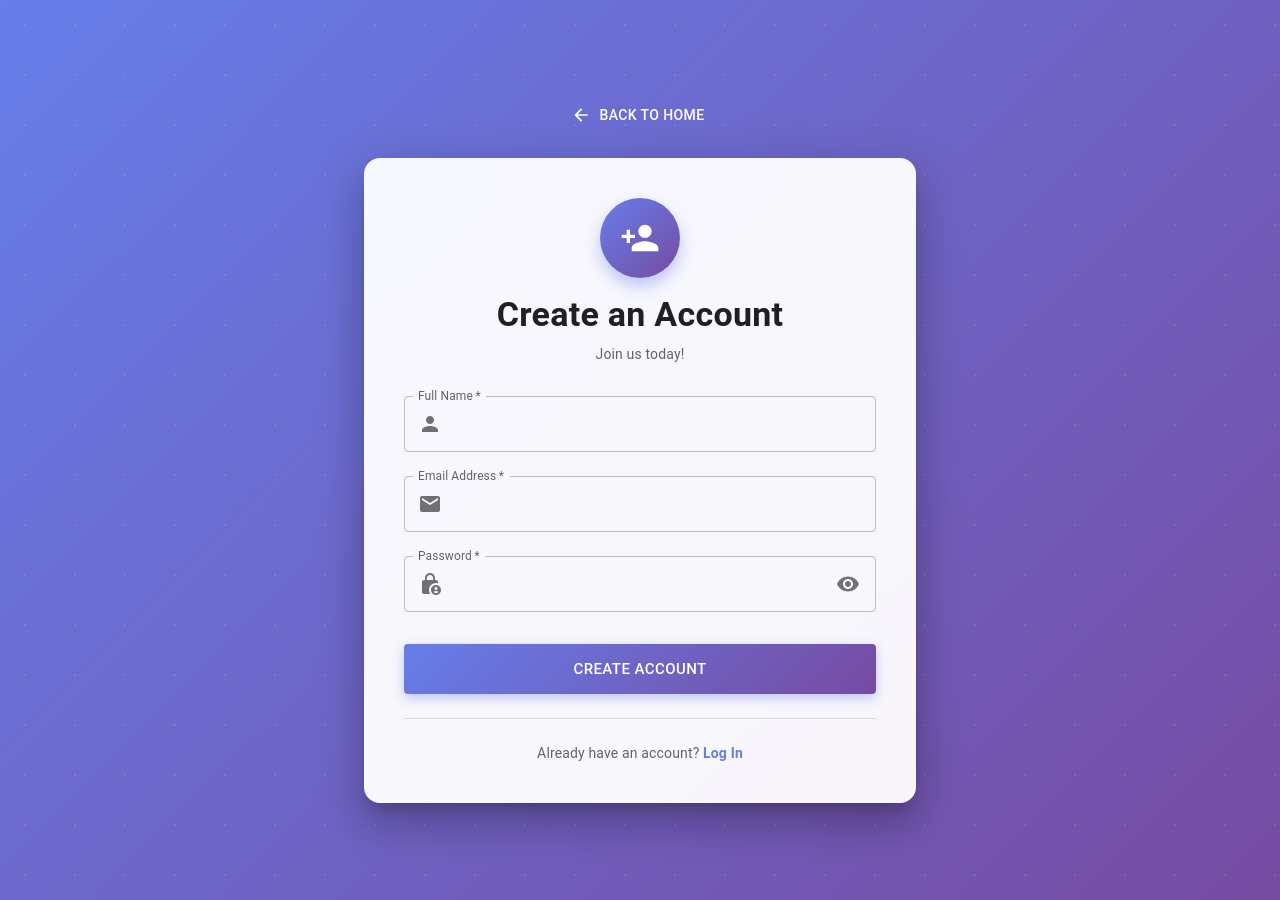
Test: RegistrationPage › handles successful registration
Type "John Doe" into the field labelled "Full Name *".
click(663, 424); type("John Doe")  # box [450,396,876,452]
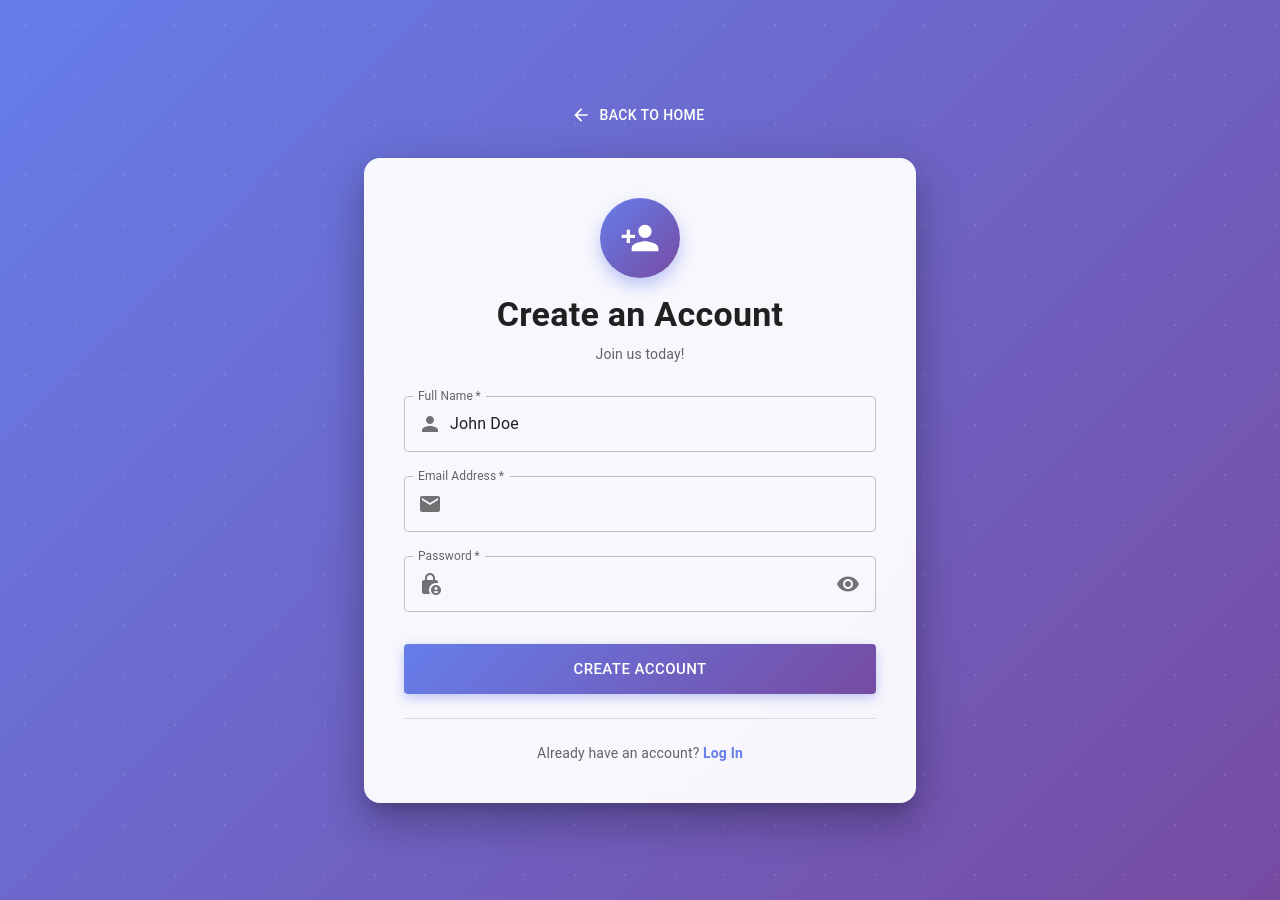
Type "john@example.com" into the field labelled "Email Address *".
click(663, 504); type("john@example.com")  # box [450,476,876,532]
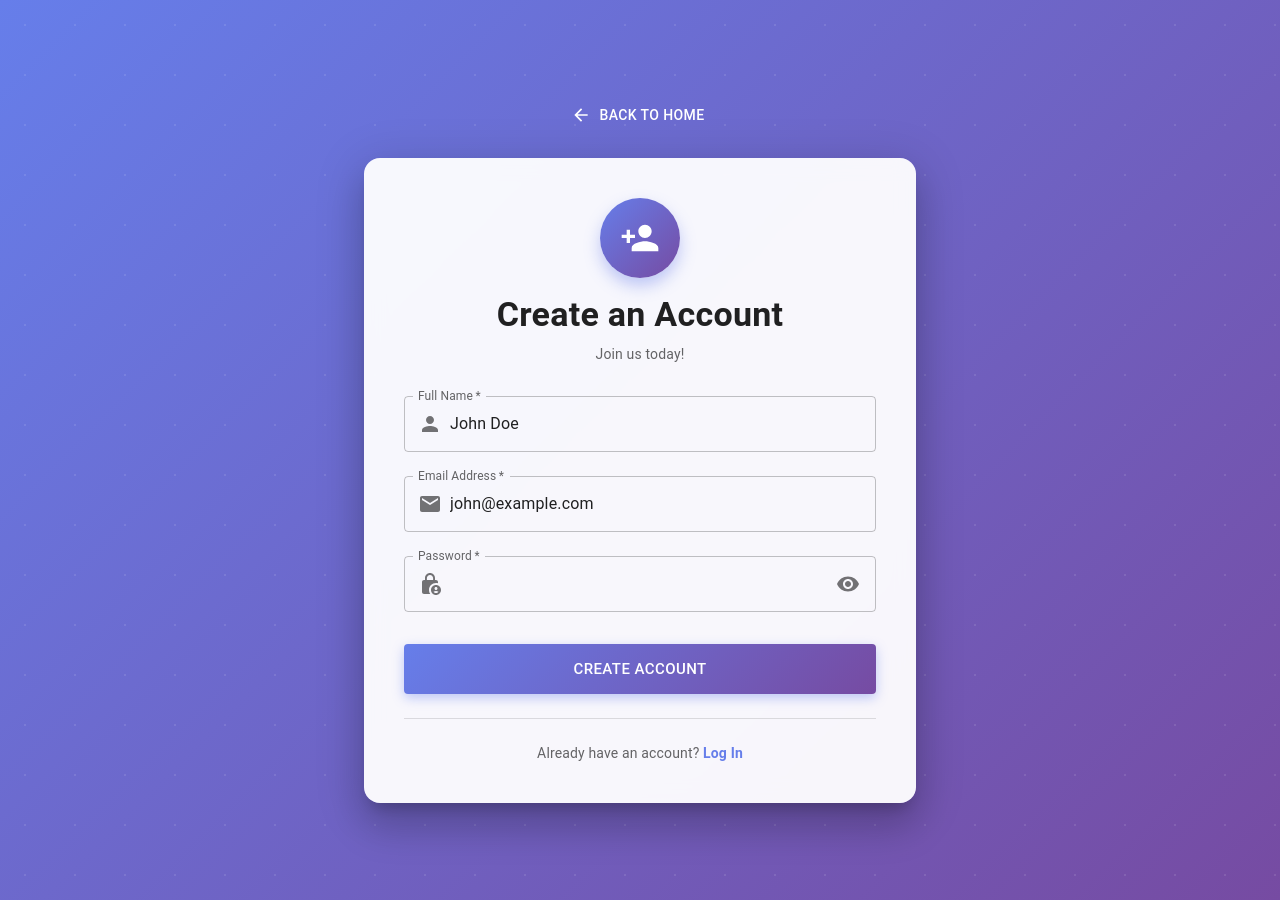
Type "password123" into the password field labelled "Password *".
click(638, 584); type("password123")  # box [450,556,826,612]
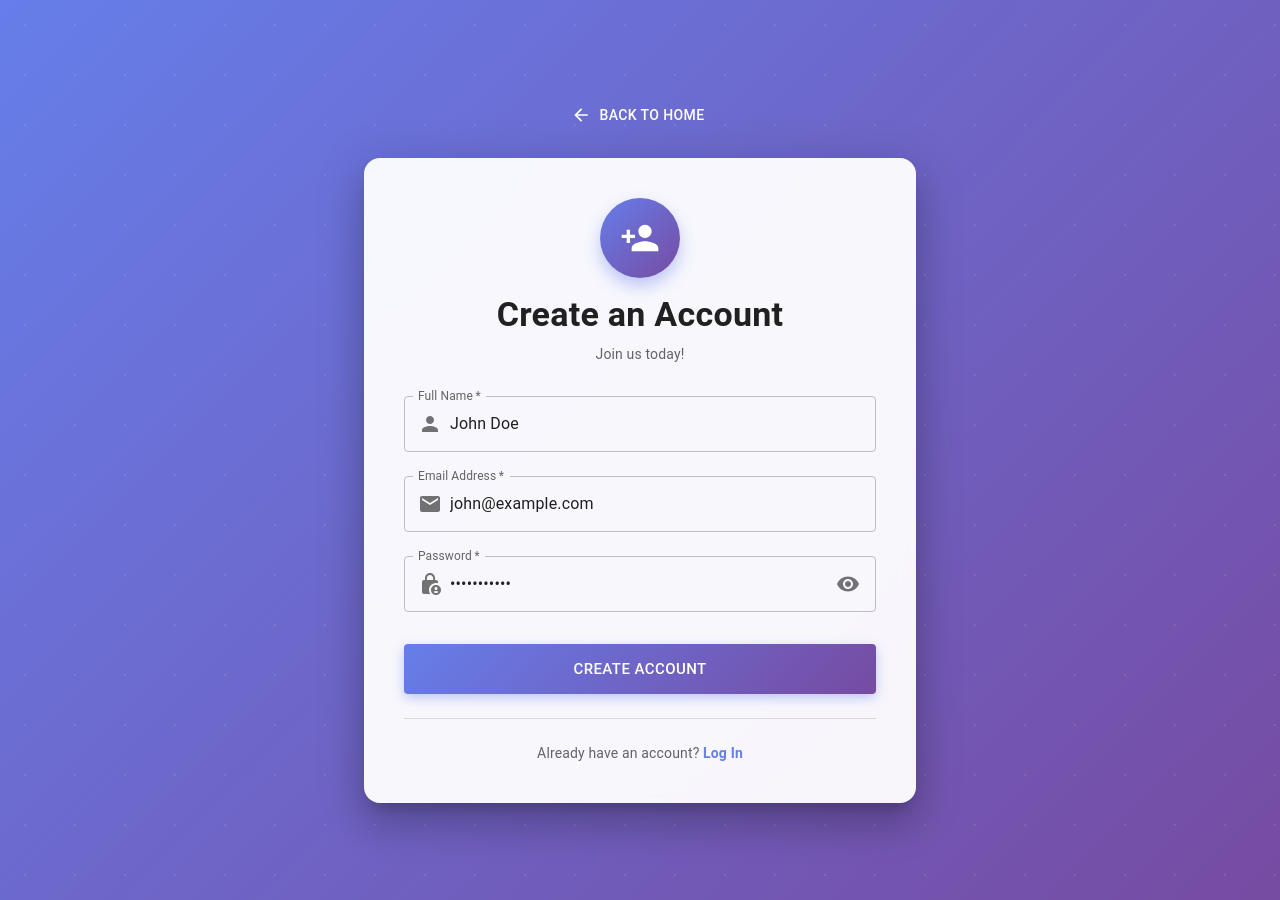
Click the button "Create Account".
click(640, 669)  # box [404,644,876,694]
Wait 1600 ms
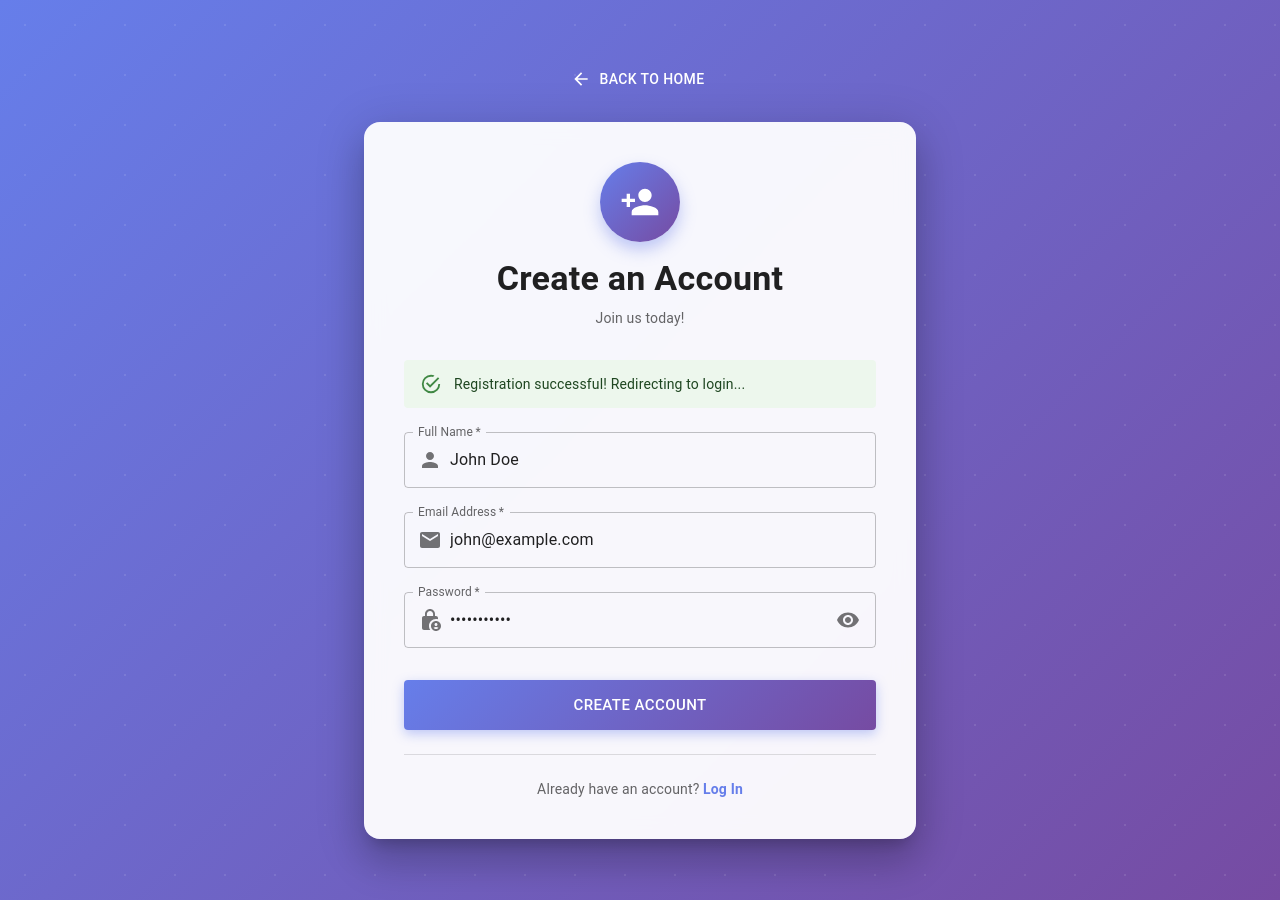
Expected: the text "Registration successful! Redirecting to login..." is shown, [454,376,745,392]
